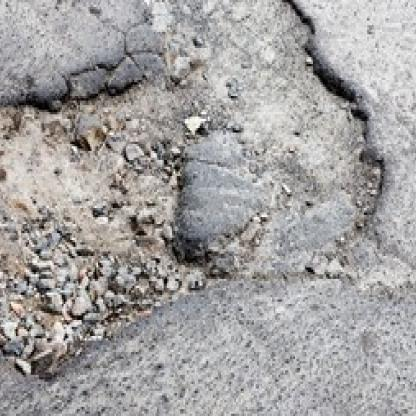pothole: (0, 0, 387, 377)
